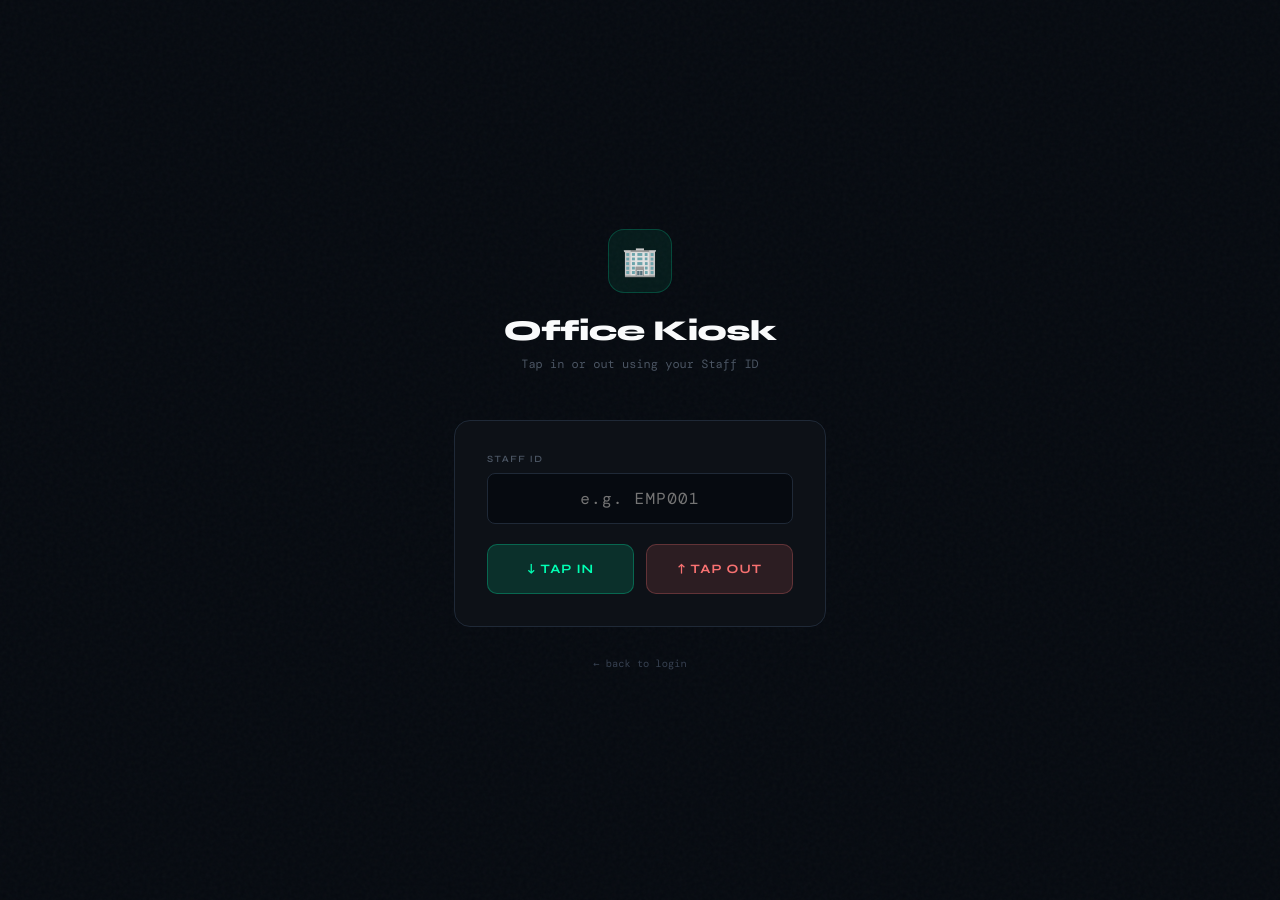
Test case: TapScreen › submits a tap-in event successfully
This screenshot has width=1280, height=900.
Type "emp001" into the field with placeholder "e.g. EMP001" at [640, 498], box [487,472,793,524]
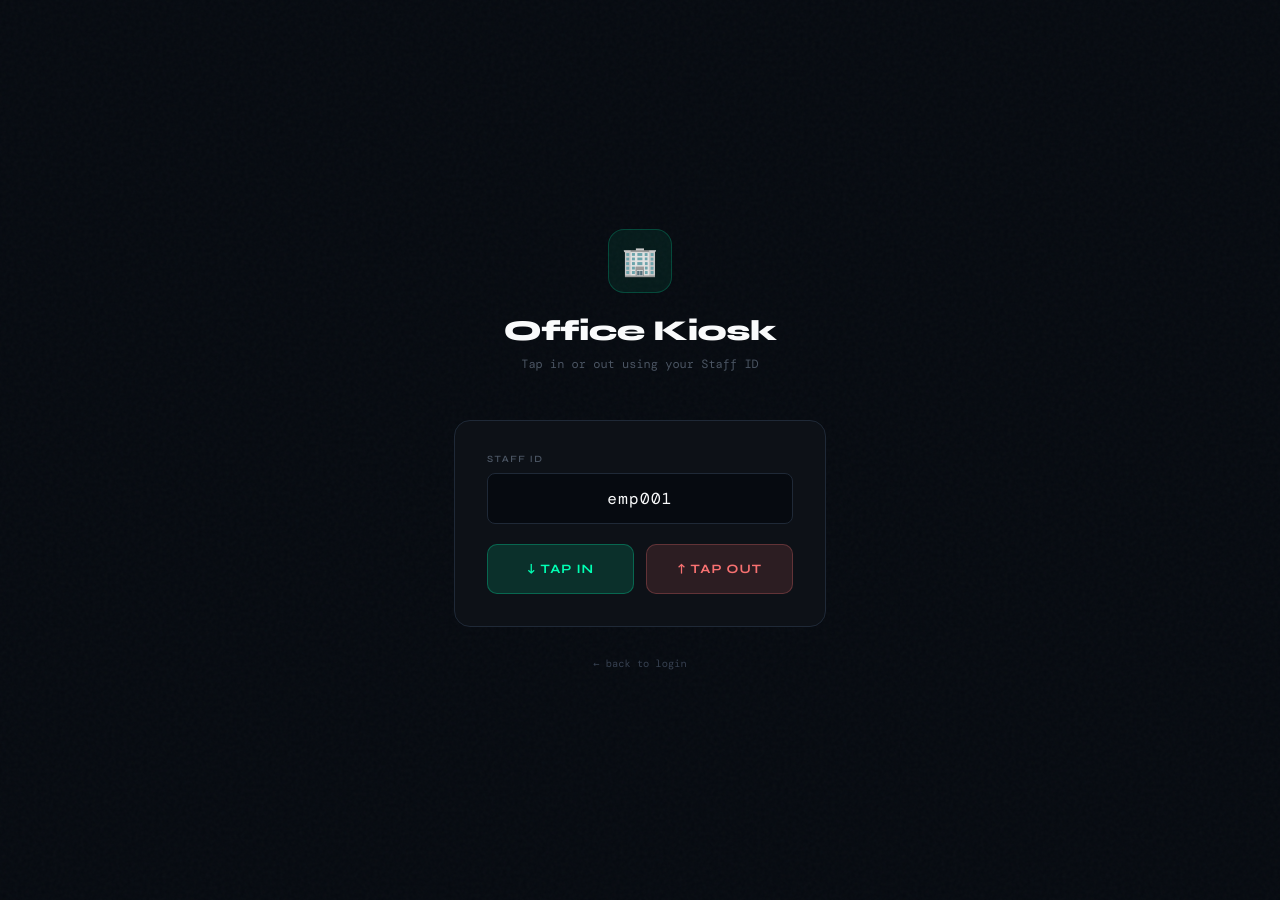
Click the button "↓ Tap In" at [560, 568], box [487,544,634,594]
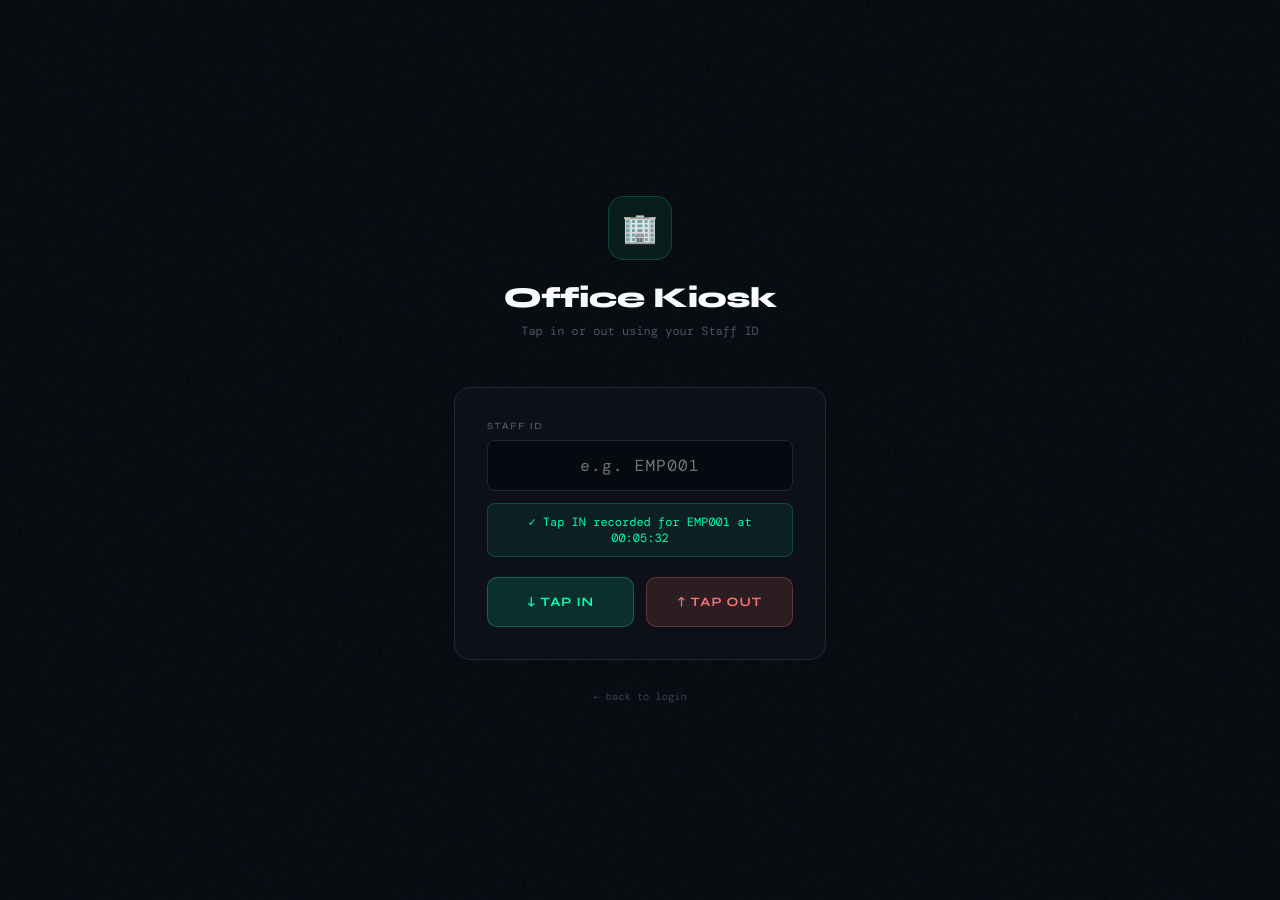
Result: the text "✓ Tap IN recorded for EMP001 at 00:05:32" is shown at [487,502,793,556]
